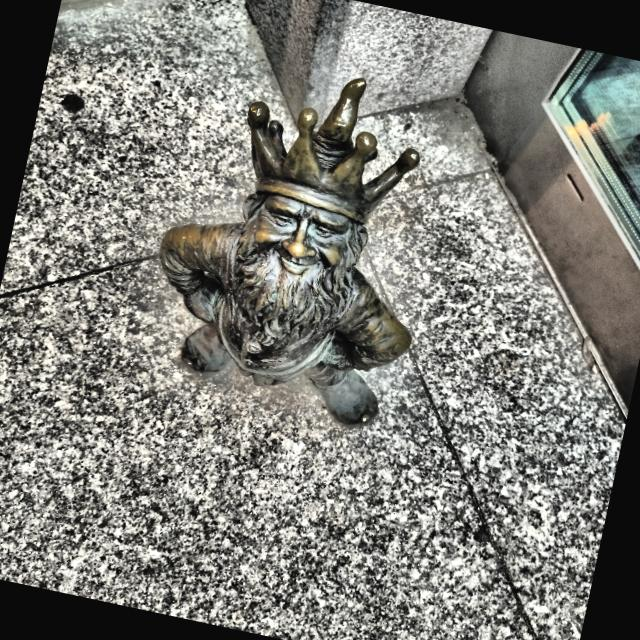Koronus: (156, 79, 419, 426)
